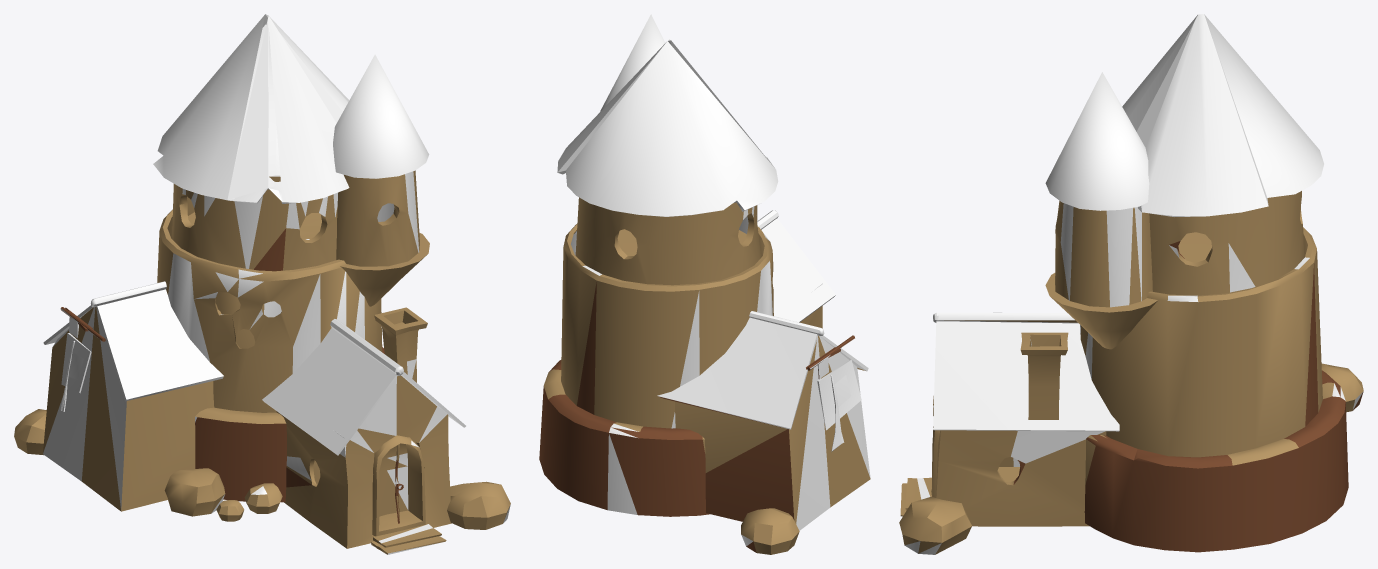
File: castle_d1.glb
3 views of the same model, side by side, from view 1: azimuth 30°, elevation 25°; view 2: azimuth 150°, elevation 25°; view 3: azimuth 270°, elevation 25° (orthographic). The views are drawn at different scales.
Parts seen in each view (by area): view 1: castle; view 2: castle; view 3: castle.
Part boxes in pixels (left/top/right/bottom): castle: left=14, top=14, right=510, bottom=554; castle: left=539, top=14, right=870, bottom=554; castle: left=899, top=14, right=1363, bottom=554.
Bounding box in the file's own units: 2.48 × 3.32 × 2.9.
